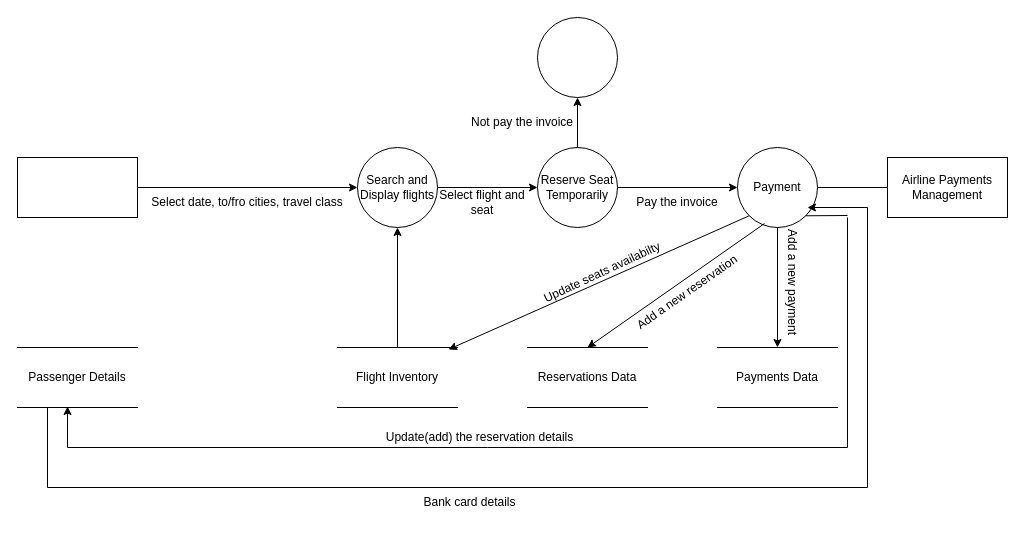
Some shapes in this 1025 by 535 pixel diagram are drawn without their labels. Each missing label, with the centre of its shape:
"Abort process" goes at point (577, 57).
"Passenger" goes at point (77, 187).
